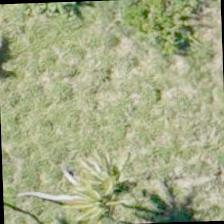Kelapa_Sawit: (57, 151, 150, 223)
